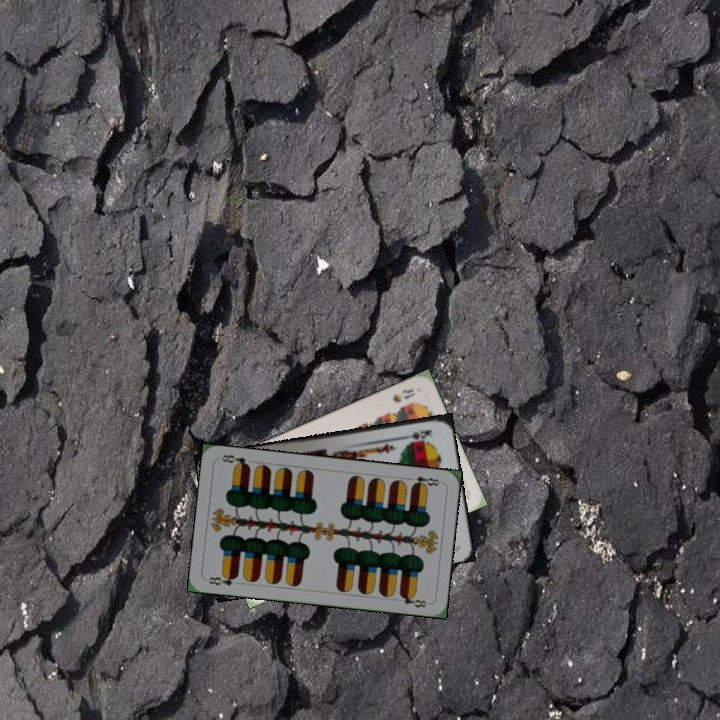E8: (404, 472, 442, 490), (204, 570, 240, 588)
S8: (389, 384, 418, 405)
SK: (397, 425, 435, 442)
